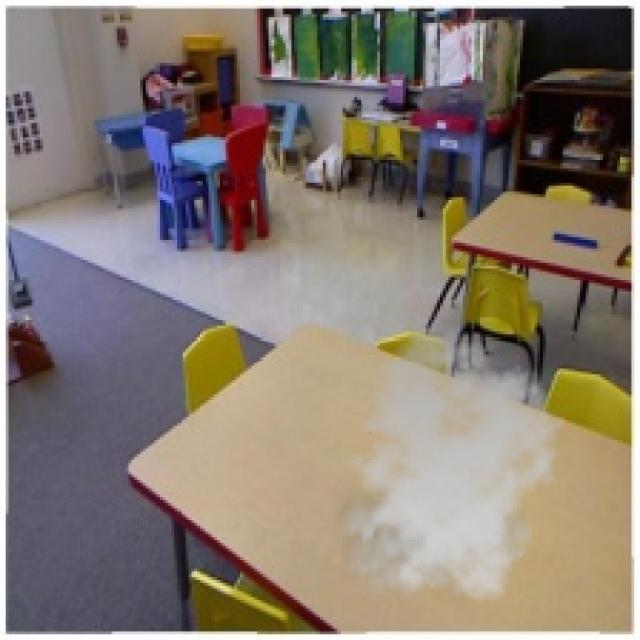smoke: (328, 328, 566, 612)
